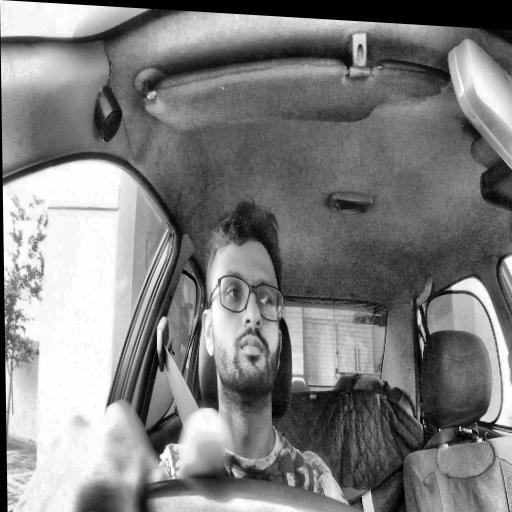awake: (200, 196, 286, 408)
